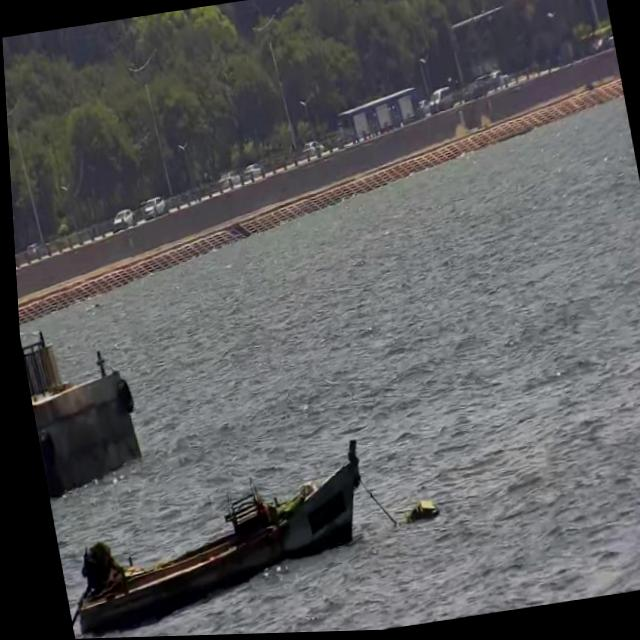ship2: (69, 442, 354, 637)
